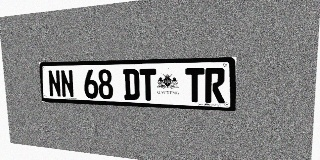6: (83, 69, 98, 99)
8: (98, 69, 113, 99)
D: (123, 69, 140, 100)
N: (60, 70, 74, 98), (47, 70, 61, 97)
R: (205, 68, 225, 103)
T: (185, 68, 204, 103), (139, 69, 156, 101)
